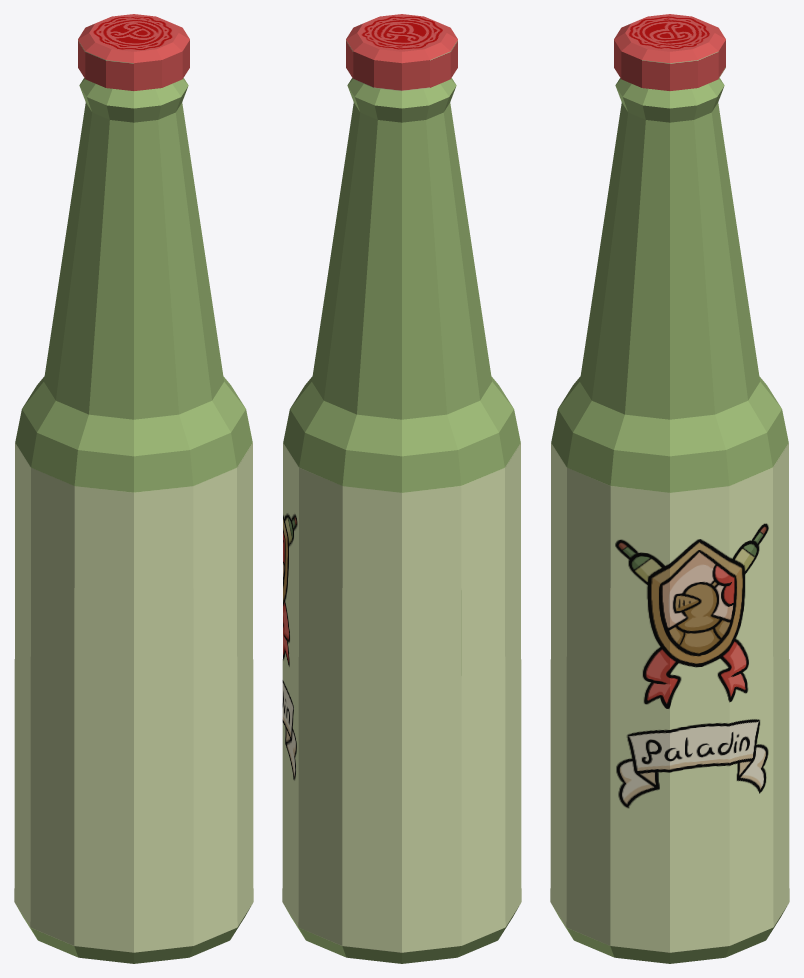
Rendered from LowPoly_Vending_Bottle_01_Textured.fbx.
3 renders of one model, left to right at view 1: azimuth 30°, elevation 25°; view 2: azimuth 150°, elevation 25°; view 3: azimuth 270°, elevation 25°, orthographic.
Visible parts, largest first — view 1: BeerBottle; view 2: BeerBottle; view 3: BeerBottle.
Part boxes in pixels (x1,y1,x2,y2): BeerBottle: (14,14,253,963); BeerBottle: (282,14,521,963); BeerBottle: (550,14,789,963).
Bounding box in the file's own units: 127 × 526 × 127.
